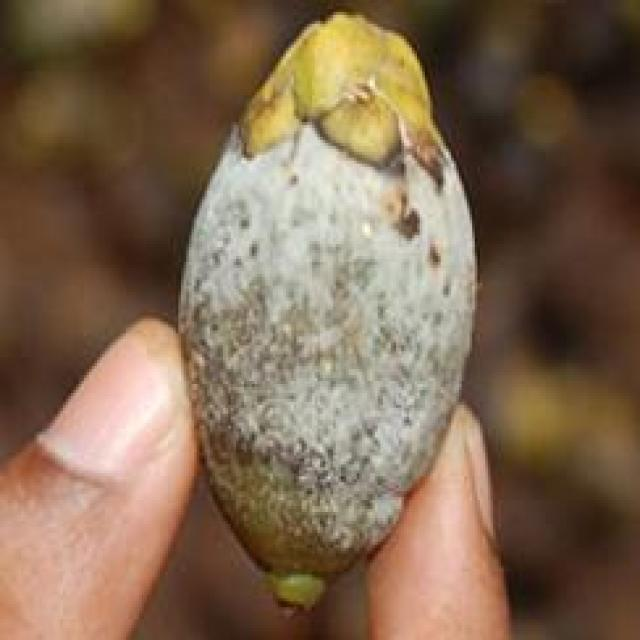damaged: (178, 12, 477, 616)
